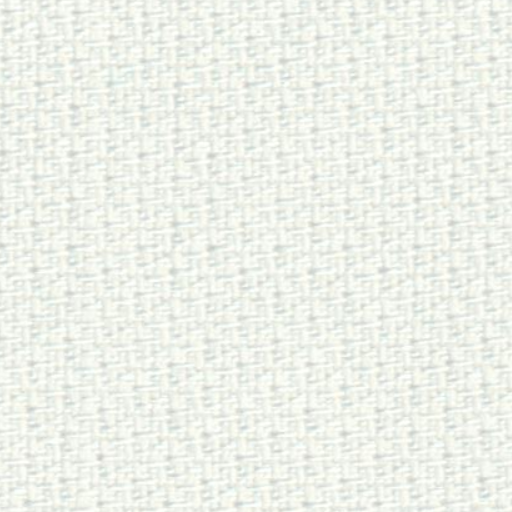TuoSha: (52, 15, 134, 502)
